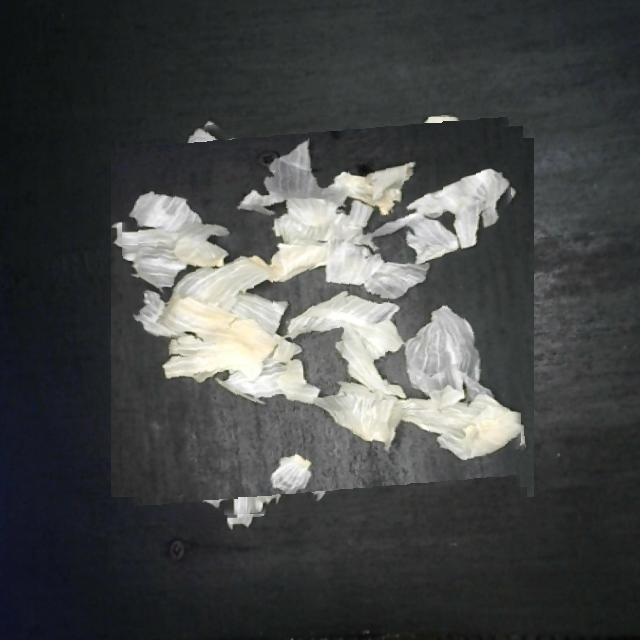biodegradable: (122, 117, 523, 518)
